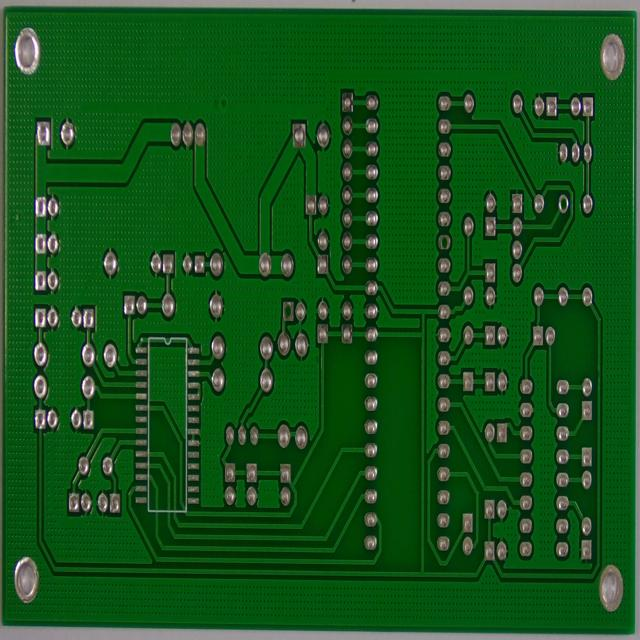missing_hole: (283, 302, 293, 321), (559, 196, 569, 214), (439, 234, 450, 250)
